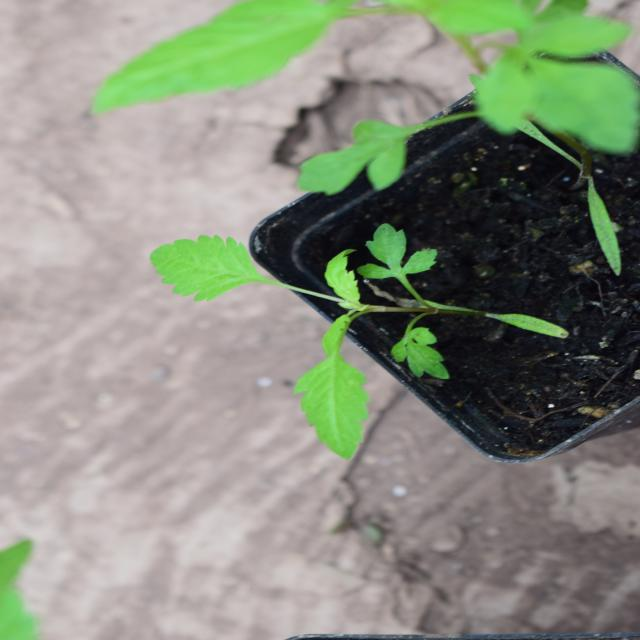Bidens pilosa: (177, 135, 459, 490)
